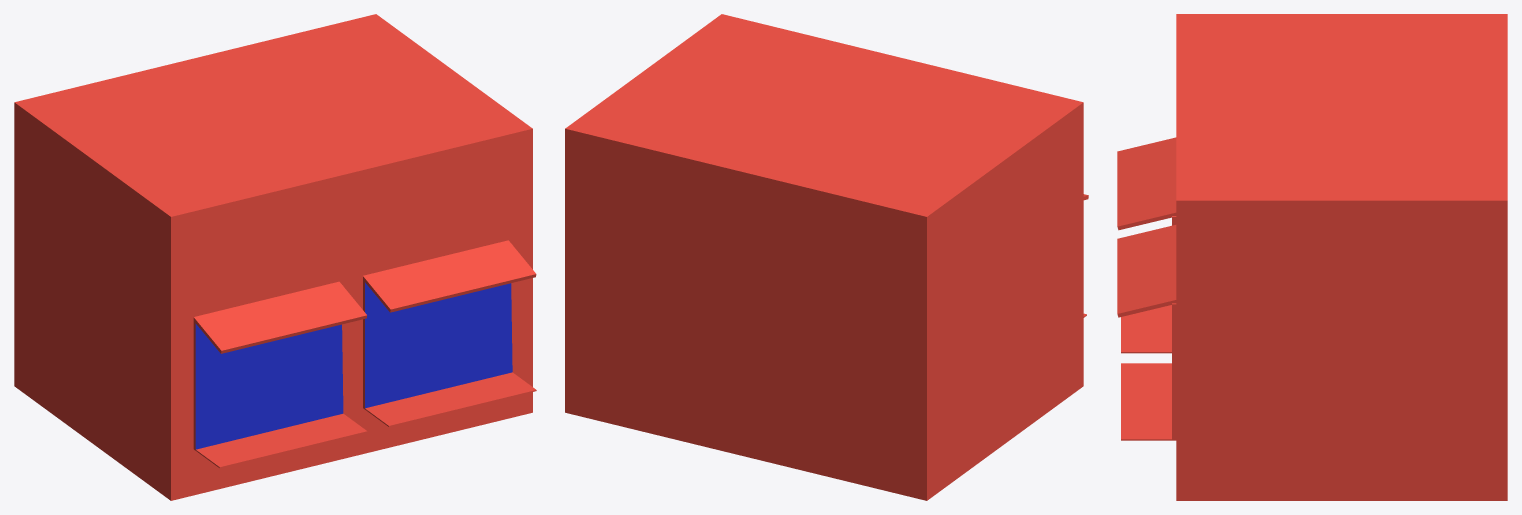
3 renders of one model, left to right at view 1: azimuth 30°, elevation 25°; view 2: azimuth 150°, elevation 25°; view 3: azimuth 270°, elevation 25°, orthographic. The views are drawn at different scales.
Visible parts, largest first — view 1: Mesh_0; view 2: Mesh_0; view 3: Mesh_0.
Part boxes in pixels (x1,y1,x2,y2): Mesh_0: (14,14,536,500); Mesh_0: (565,14,1088,500); Mesh_0: (1117,14,1507,500).
Size of the model in its own units: 4 by 3 by 3.53.
